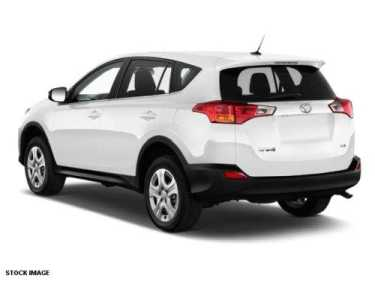Toyota RAV-4: (16, 50, 362, 234)
